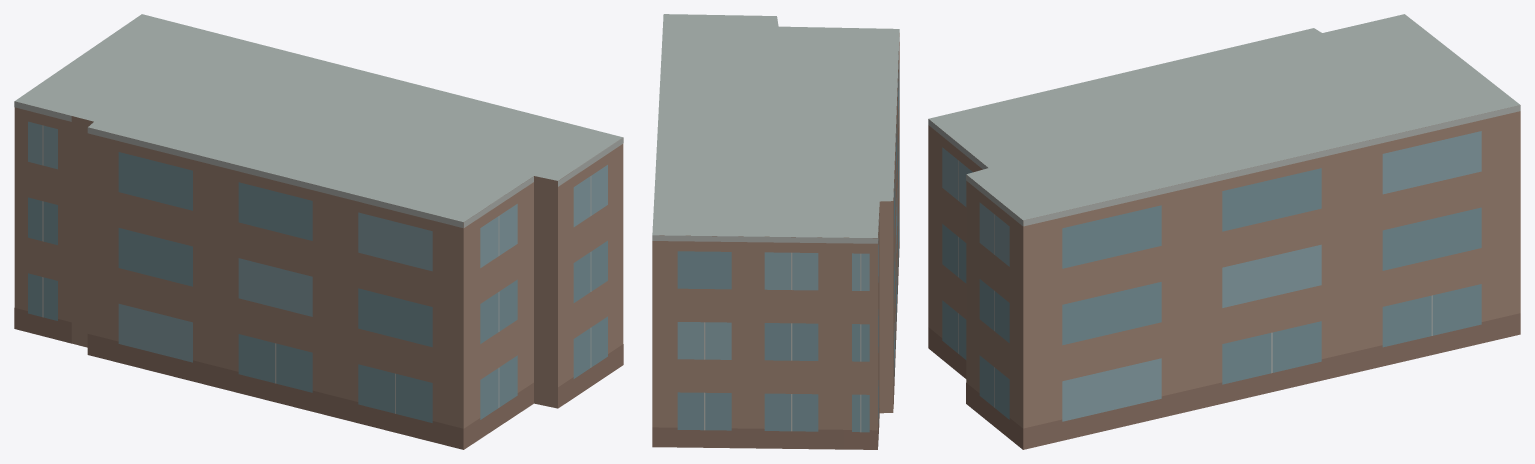
File: survey-upis-32658697.glb
The picture shows the model from 3 angles, left to right: view 1: azimuth 30°, elevation 25°; view 2: azimuth 150°, elevation 25°; view 3: azimuth 270°, elevation 25°; orthographic projection. The views are drawn at different scales.
Visible parts, largest first — view 1: survey-upis-32658697.tmp; view 2: survey-upis-32658697.tmp; view 3: survey-upis-32658697.tmp.
Part boxes in pixels (left/top/right/bottom): survey-upis-32658697.tmp: left=14, top=14, right=623, bottom=449; survey-upis-32658697.tmp: left=652, top=14, right=899, bottom=449; survey-upis-32658697.tmp: left=928, top=14, right=1520, bottom=449.
Size of the model in its own units: 17.66 by 9.15 by 21.41.
